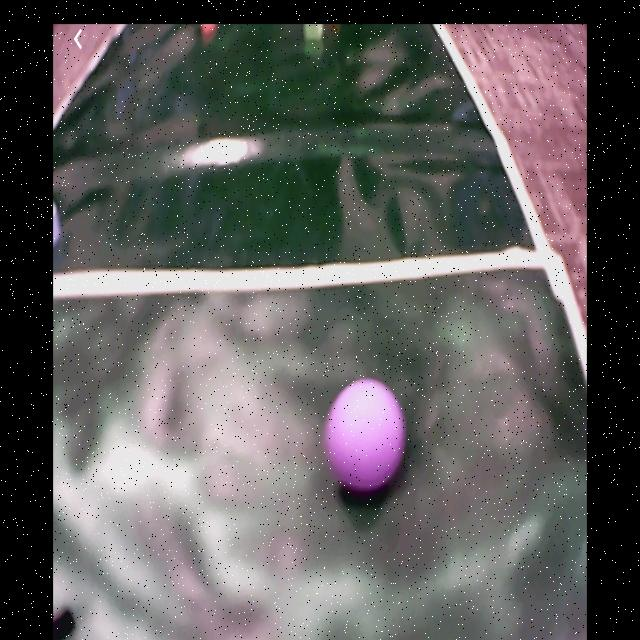ball: (328, 379, 406, 494)
